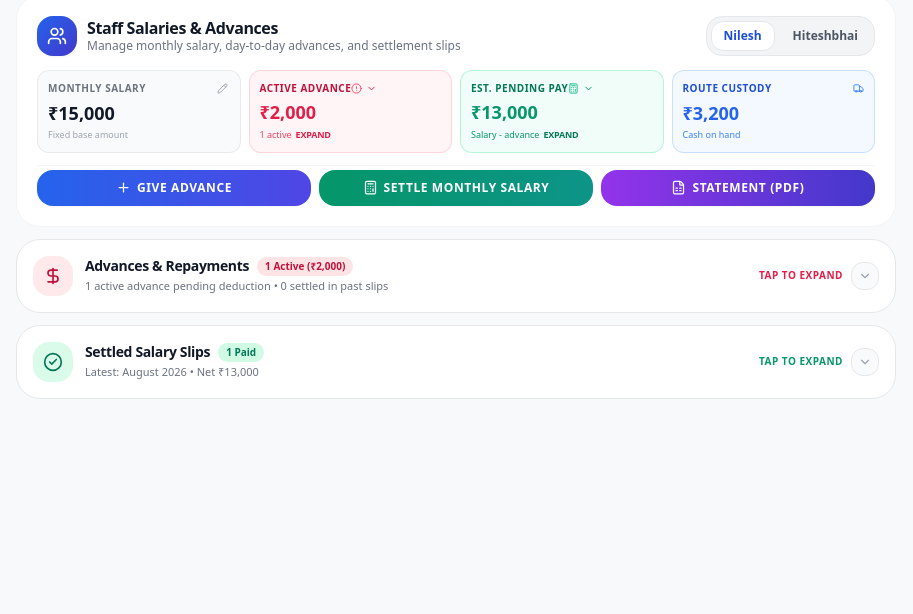
Test: StaffSalariesDashboard › supports click-to-expand on Settled Salary Slips via top metric card and accordion toggle
Check: the button "Slip PDF" is not shown
// Click Est. Pending Pay card to expand settlements
Click the button titled "Click to expand settled monthly salary slips" at coordinates (562, 111), box [460,70,664,152]
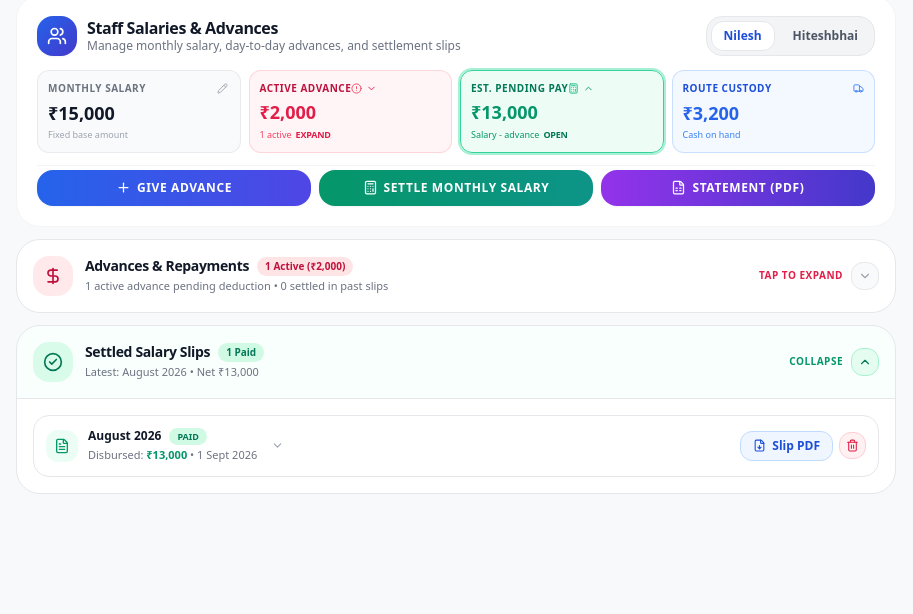
Check: the button "Slip PDF" is shown, box [740,430,833,460]
// Click slip row to expand financial breakdown
Click the button with aria-label "Toggle August 2026 slip breakdown" at coordinates (62, 446), box [46,428,728,464]
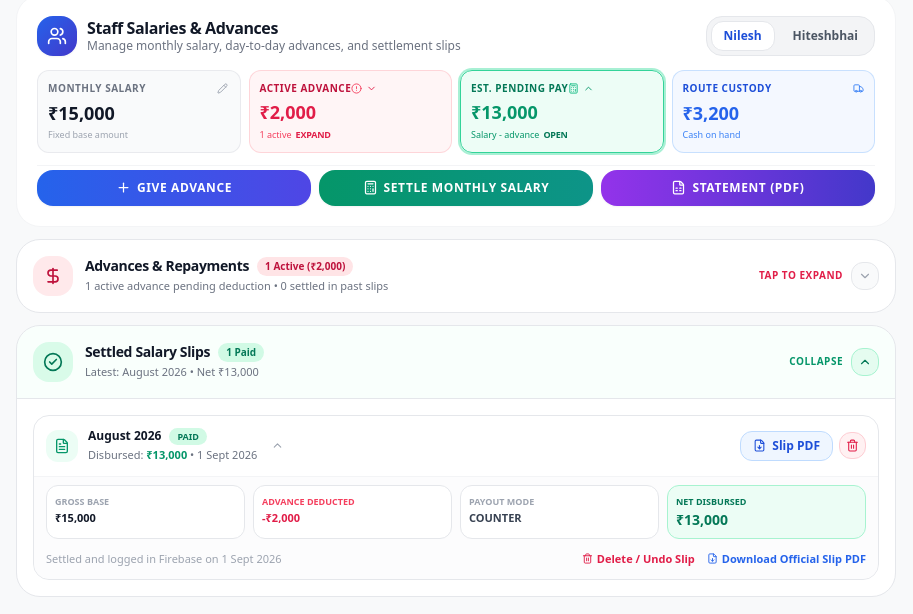
Check: the text "Gross Base" is shown, box [55,494,109,508]
Check: the text "Advance Deducted" is shown, box [262,494,355,508]
// Click accordion header to collapse
Click the button "Settled Salary Slips" at coordinates (53, 362), box [17,326,895,398]
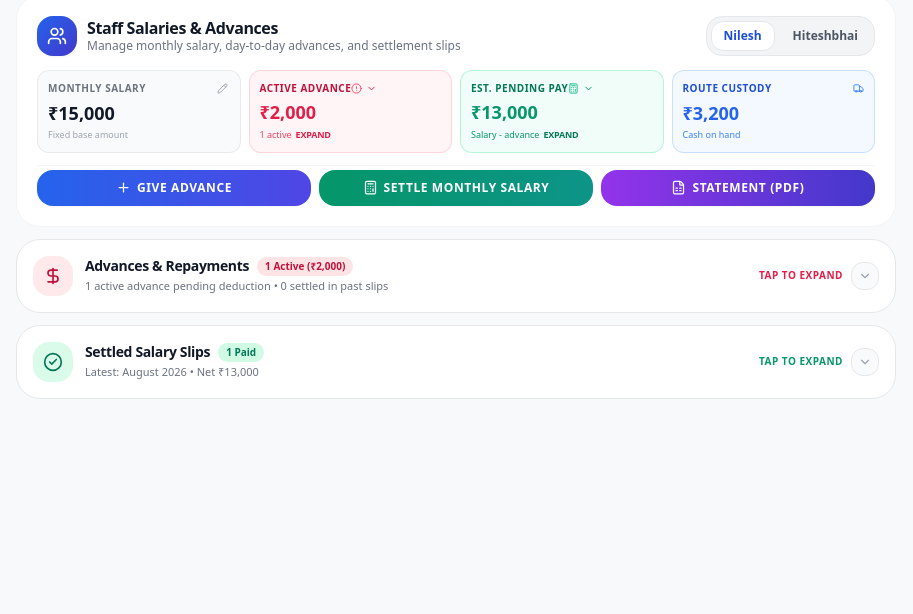
Check: the button "Slip PDF" is gone
